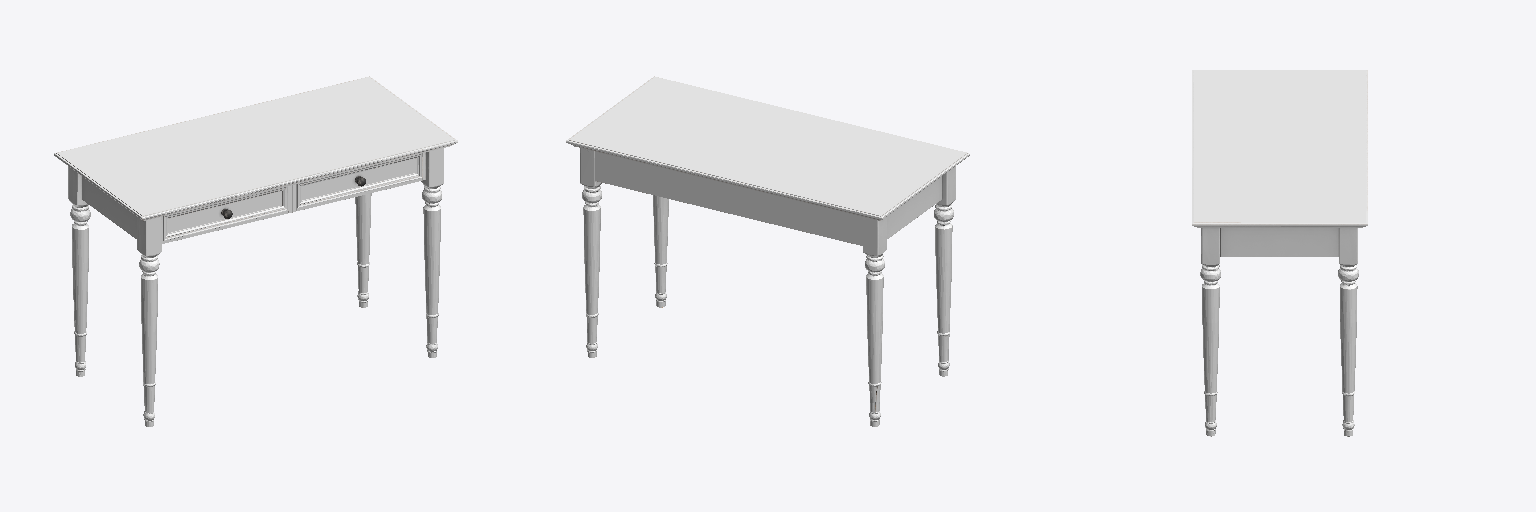
The picture shows the model from 3 angles: view 1: azimuth 30°, elevation 25°; view 2: azimuth 150°, elevation 25°; view 3: azimuth 270°, elevation 25°; orthographic projection.
Parts seen in each view (by area): view 1: solid_002; view 2: solid_002; view 3: solid_002.
Part boxes in pixels (x1,y1,x2,y2): solid_002: (54,76,457,426); solid_002: (566,76,969,426); solid_002: (1192,70,1367,436).
Bounding box in the file's own units: 1.69 × 1.12 × 0.8186.
Materials: 1 (1 with a texture image).